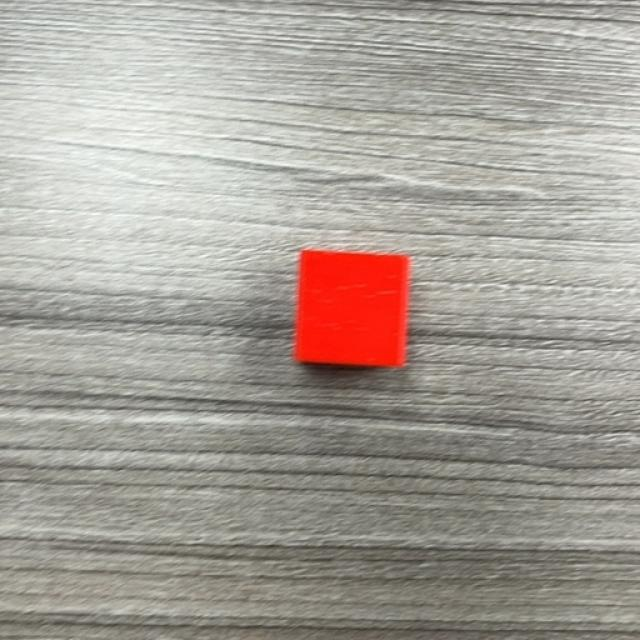Rojo: (292, 251, 412, 368)
